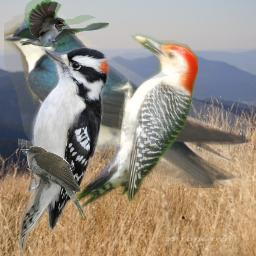Cuckoo: (21, 146, 87, 221)
Swallow: (4, 11, 251, 188), (20, 0, 109, 47)
Woodpecker: (68, 28, 198, 216), (18, 38, 118, 252)
